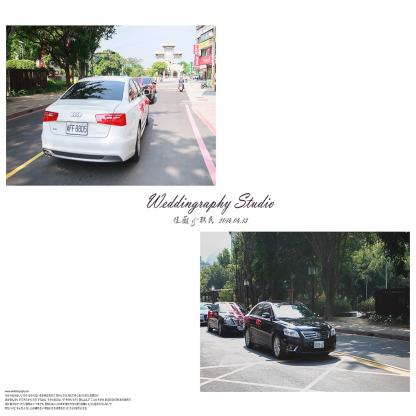Car: (42, 75, 150, 166), (244, 298, 339, 360), (206, 300, 251, 338), (136, 75, 159, 105), (201, 304, 213, 327)
